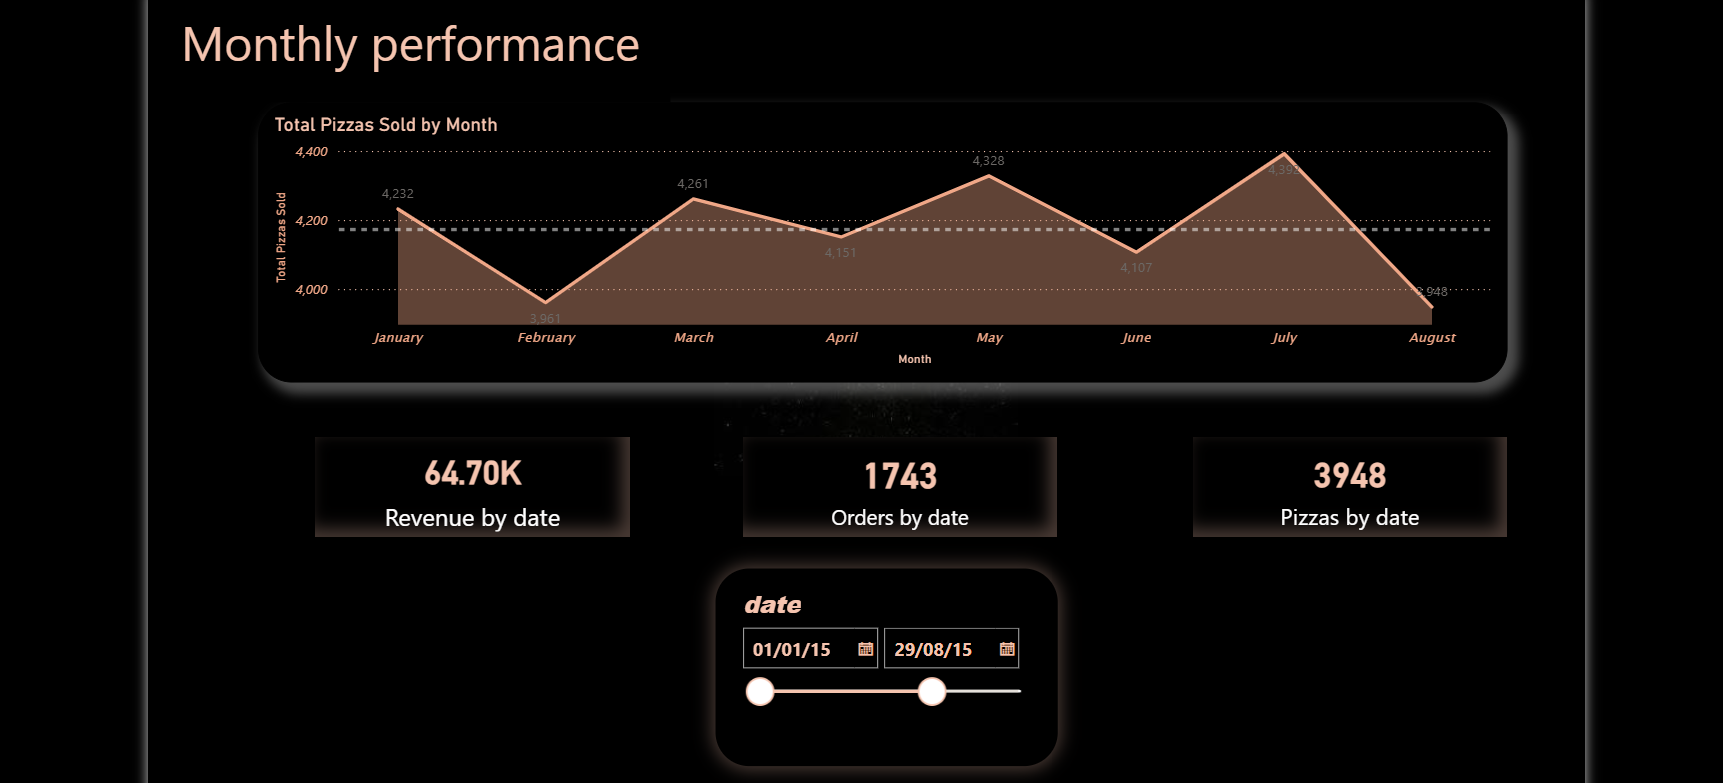

This screenshot's page, from the dashboard's own definition file:
{"tool":"powerbi","page":{"name":"Monthly performance","canvas":[1280,720],"ordinal":2},"visuals":[{"type":"card","fields":{"Values":["measures_table.Revenue This Month"]},"box":[149.6,397.9,279.9,89.2],"z":0},{"type":"card","title":"يتبيبني","fields":{"Values":["measures_table.Orders This Month"]},"box":[529.7,397.9,279.9,89.2],"z":1000},{"type":"card","fields":{"Values":["measures_table.Pizzas This Month"]},"box":[930.4,397.9,279.9,89.2],"z":2000},{"type":"lineChart","fields":{"Y":["order_details.Total Pizzas Sold"],"Category":["orders_Lookup.date.Variation.Date Hierarchy.Month"]},"box":[97.4,98.8,1112.9,249.7],"z":3000},{"type":"slicer","fields":{"Values":["orders_Lookup.date"]},"box":[505,514.6,304.6,175.6],"z":4000},{"type":"textbox","box":[24.7,11,440.5,87.8],"z":5000}]}

Visuals, with their boxes on the page's 1280x720 design canvas (x1, y1, x2, y2). These are canvas units, not pixel positions in the 1723x783 screenshot, which may show the page scaled, cropped or inside an application window:
card - measures_table.Revenue This Month: x1=150 y1=398 x2=430 y2=487
"يتبيبني" card: x1=530 y1=398 x2=810 y2=487
card - measures_table.Pizzas This Month: x1=930 y1=398 x2=1210 y2=487
lineChart - order_details.Total Pizzas Sold x orders_Lookup.date.Variation.Date Hierarchy.Month: x1=97 y1=99 x2=1210 y2=348
slicer - orders_Lookup.date: x1=505 y1=515 x2=810 y2=690
textbox: x1=25 y1=11 x2=465 y2=99
